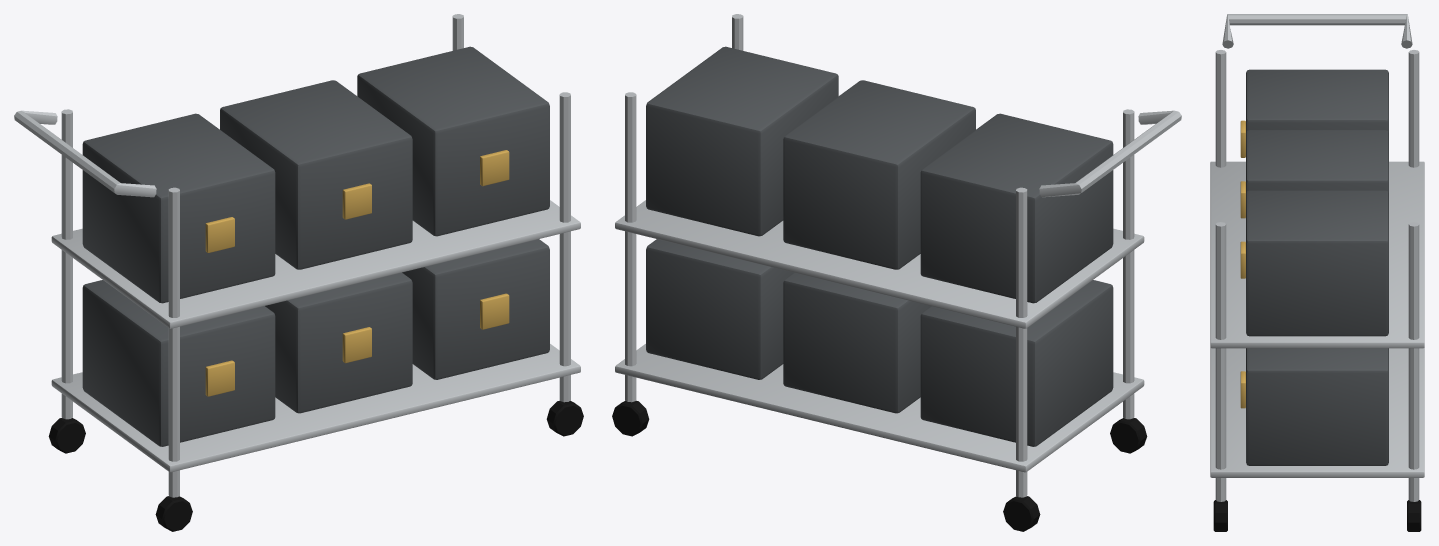
Rendered from tideline_drop_cart.glb.
3 views of the same model, side by side, from view 1: azimuth 30°, elevation 25°; view 2: azimuth 150°, elevation 25°; view 3: azimuth 270°, elevation 25° (orthographic). The views are drawn at different scales.
Parts seen in each view (by area): view 1: tideline_drop_cart; view 2: tideline_drop_cart; view 3: tideline_drop_cart.
Boxes of the visible parts, x1,y1,x2,y2 form: tideline_drop_cart: (14, 14, 583, 531); tideline_drop_cart: (612, 14, 1181, 531); tideline_drop_cart: (1210, 14, 1424, 531).
Size of the model in its own units: 1.35 by 0.9881 by 0.6.
